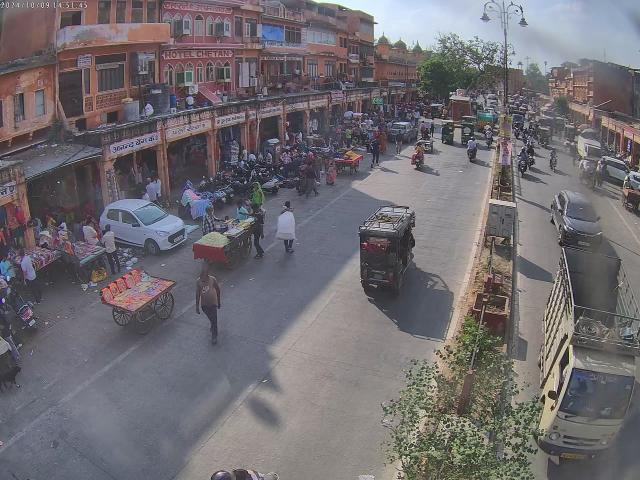auto: (356, 206, 416, 298), (440, 120, 456, 144), (460, 122, 475, 145), (538, 127, 552, 148)
car: (96, 198, 186, 255), (548, 189, 604, 249), (595, 156, 636, 184), (388, 121, 414, 142)
license_plate: (560, 450, 588, 460), (174, 234, 184, 243), (578, 241, 590, 247)
lorry: (532, 246, 640, 462)
motorbike: (226, 176, 254, 198)
motorbike-rider: (518, 146, 530, 178), (412, 141, 424, 168), (466, 138, 478, 162), (548, 148, 558, 172), (484, 128, 494, 148)
person: (192, 270, 222, 348), (17, 253, 37, 283), (142, 176, 162, 203), (77, 218, 96, 244), (322, 155, 335, 186), (369, 136, 381, 166)
rickshow: (579, 158, 597, 190)
scooty: (2, 276, 39, 332), (198, 176, 234, 206), (250, 170, 280, 194)
vendor: (100, 264, 176, 333), (192, 204, 256, 268), (334, 150, 362, 175), (620, 176, 640, 210)
